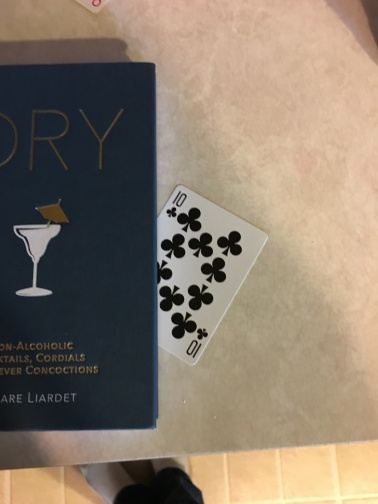ten: (151, 183, 267, 365)
